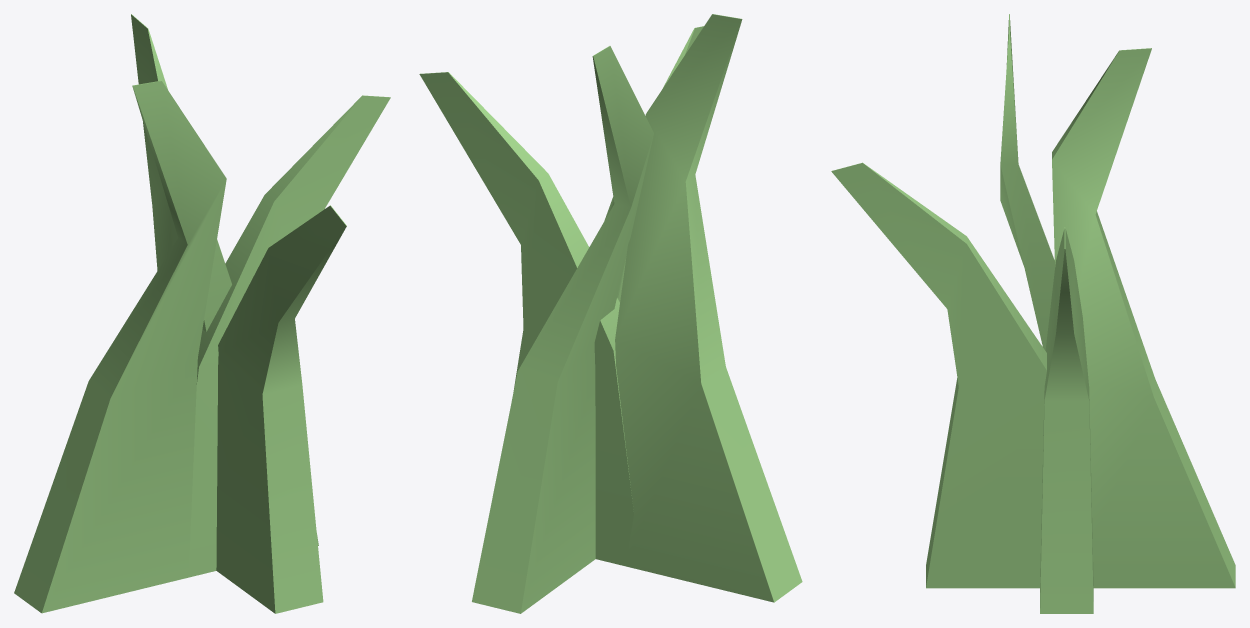
Rendered from grass12.fbx.
3 renders of one model, left to right at view 1: azimuth 30°, elevation 25°; view 2: azimuth 150°, elevation 25°; view 3: azimuth 270°, elevation 25°, orthographic. The views are drawn at different scales.
Parts seen in each view (by area): view 1: grass12_pCube39; view 2: grass12_pCube39; view 3: grass12_pCube39.
Boxes of the visible parts, x1,y1,x2,y2 form: grass12_pCube39: (14,14,390,613); grass12_pCube39: (419,14,802,613); grass12_pCube39: (831,14,1235,613).
Size of the model in its own units: 1.84 by 2.53 by 1.84.
